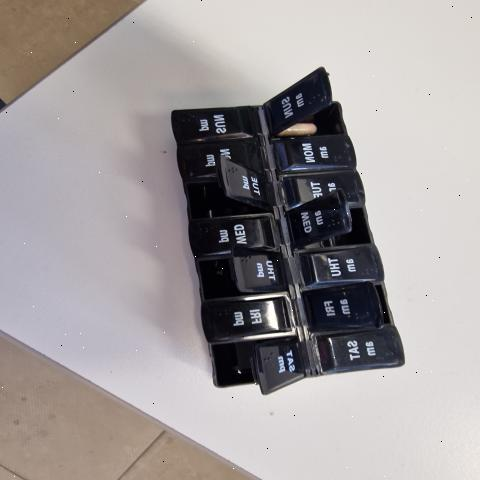Open: (186, 153, 272, 221), (208, 333, 298, 395), (197, 257, 281, 300), (297, 209, 375, 252), (274, 103, 347, 139), (371, 281, 394, 325)
